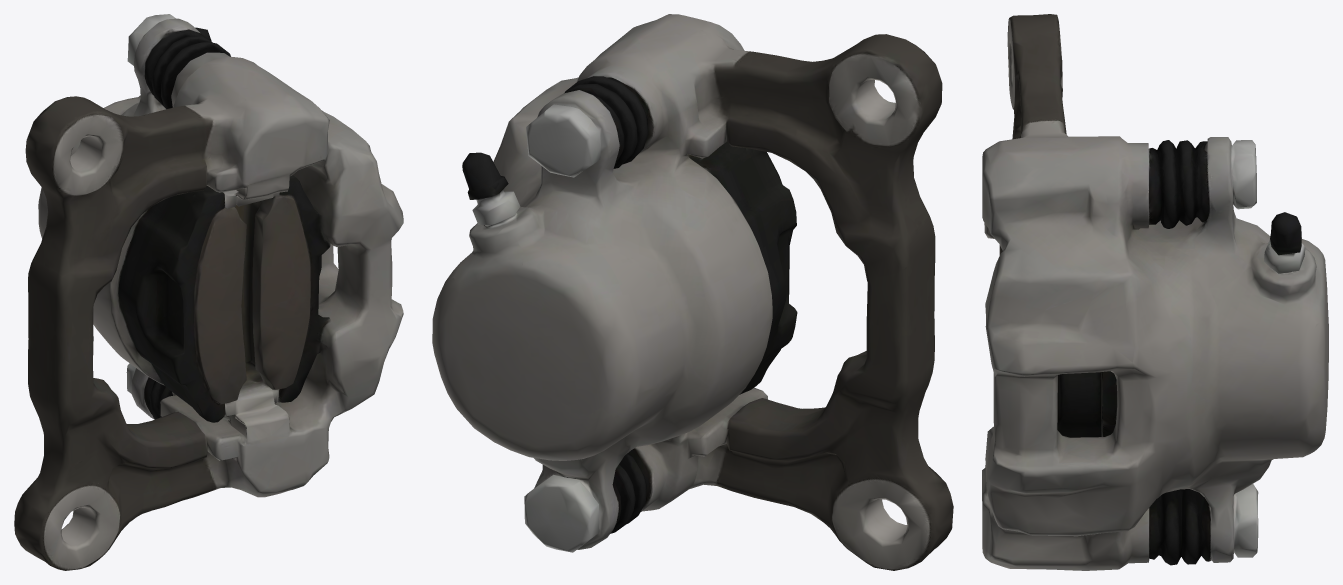
Rendered from front-wheel-brake.glb.
3 views of the same model, side by side, from view 1: azimuth 30°, elevation 25°; view 2: azimuth 150°, elevation 25°; view 3: azimuth 270°, elevation 25° (orthographic). The views are drawn at different scales.
Parts seen in each view (by area): view 1: tripo_node_6cd6f8f1-bd65-4214-a149-ca2784bd1d6c; view 2: tripo_node_6cd6f8f1-bd65-4214-a149-ca2784bd1d6c; view 3: tripo_node_6cd6f8f1-bd65-4214-a149-ca2784bd1d6c.
Boxes of the visible parts, x1,y1,x2,y2 form: tripo_node_6cd6f8f1-bd65-4214-a149-ca2784bd1d6c: (14, 14, 403, 570); tripo_node_6cd6f8f1-bd65-4214-a149-ca2784bd1d6c: (432, 14, 953, 570); tripo_node_6cd6f8f1-bd65-4214-a149-ca2784bd1d6c: (982, 14, 1328, 570).
Bounding box in the file's own units: 0.8573 × 1 × 0.6537.
Materials: 1 (1 with a texture image).
